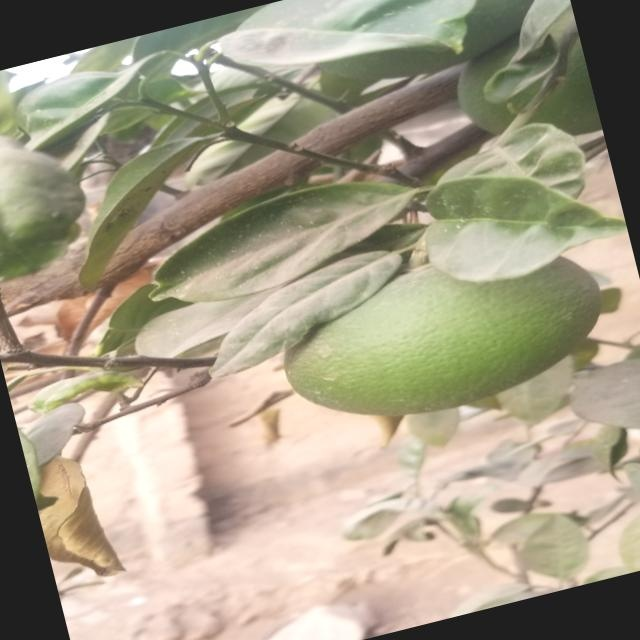agrume: (266, 226, 618, 445)
